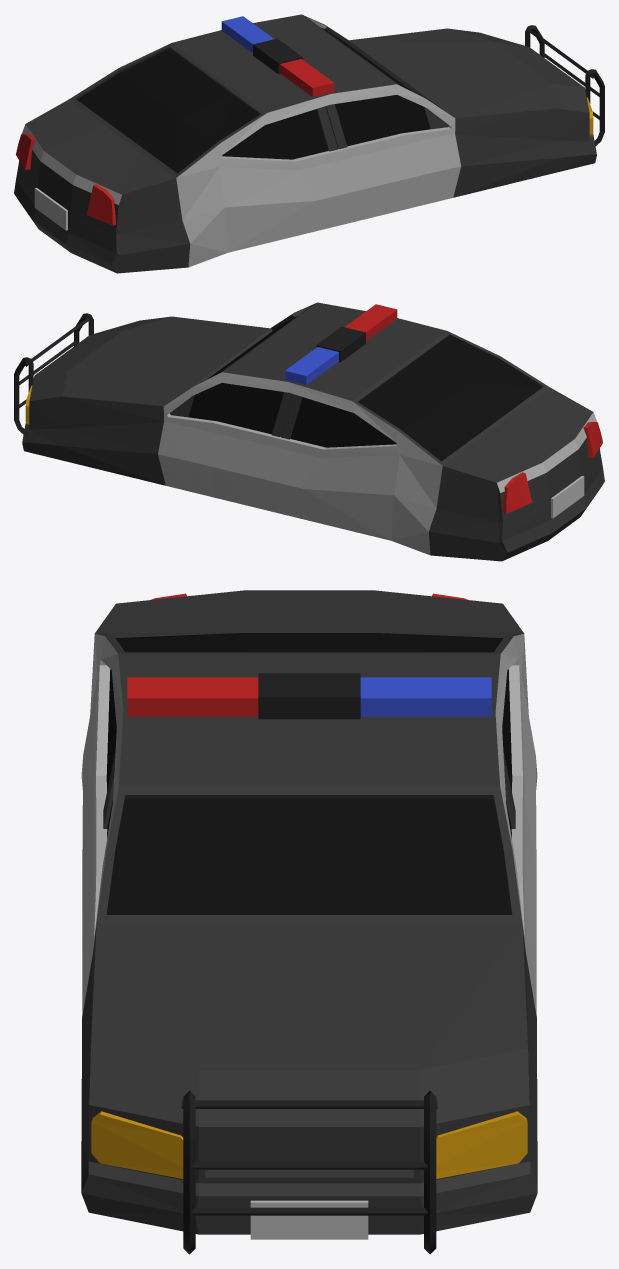
File: SM_policecar_base.fbx
The picture shows the model from 3 angles, top to bottom: view 1: azimuth 30°, elevation 25°; view 2: azimuth 150°, elevation 25°; view 3: azimuth 270°, elevation 25°; orthographic projection. The views are drawn at different scales.
Visible parts, largest first — view 1: Object32308; view 2: Object32308; view 3: Object32308.
Part boxes in pixels (box(x1,y1,x2,y2)): Object32308: box(14, 14, 604, 273); Object32308: box(14, 302, 604, 561); Object32308: box(81, 590, 537, 1254).
Size of the model in its own units: 189 by 50.63 by 70.95.
